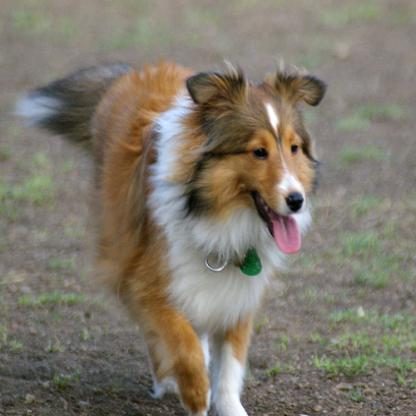Shetland_sheepdog: (7, 56, 328, 413)
